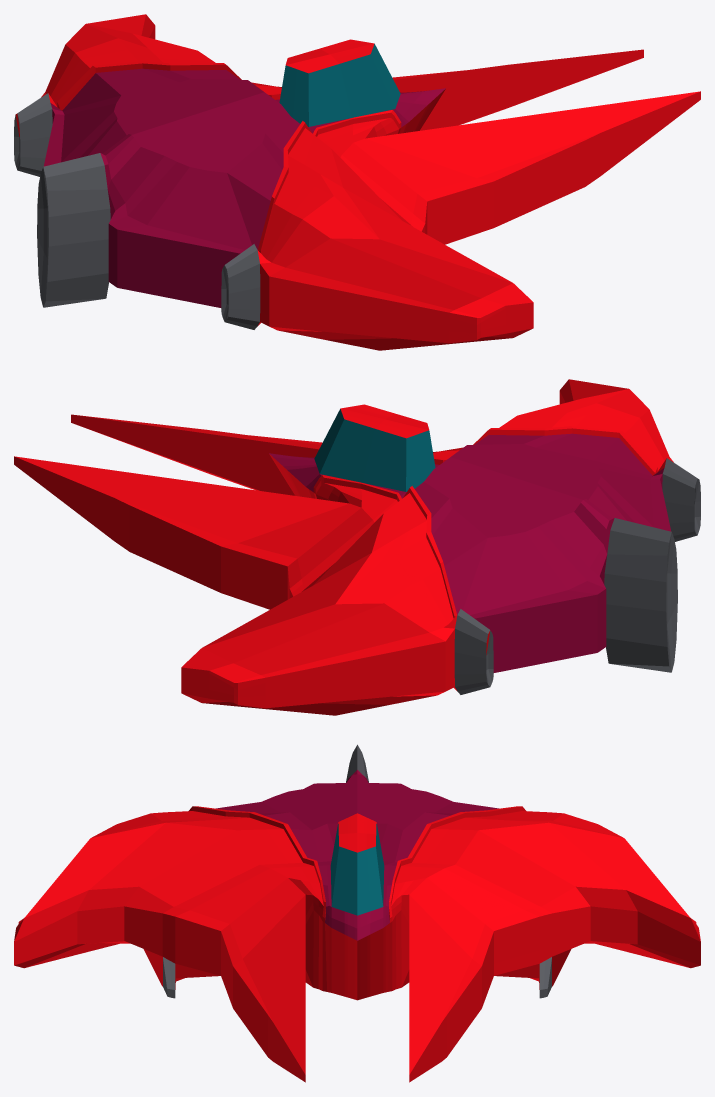
Rendered from ship3.fbx.
The picture shows the model from 3 angles, top to bottom: view 1: azimuth 30°, elevation 25°; view 2: azimuth 150°, elevation 25°; view 3: azimuth 270°, elevation 25°; orthographic projection. The views are drawn at different scales.
Parts seen in each view (by area): view 1: ship; view 2: ship; view 3: ship.
Boxes of the visible parts, <box> form: ship: <box>14,14,700,350</box>; ship: <box>14,379,700,715</box>; ship: <box>14,744,700,1082</box>.
Size of the model in its own units: 273 by 75.99 by 284.
